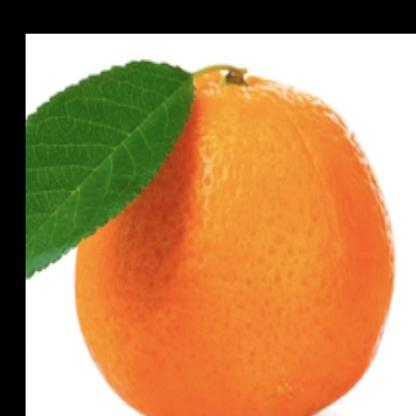fresh: (80, 56, 390, 416)
